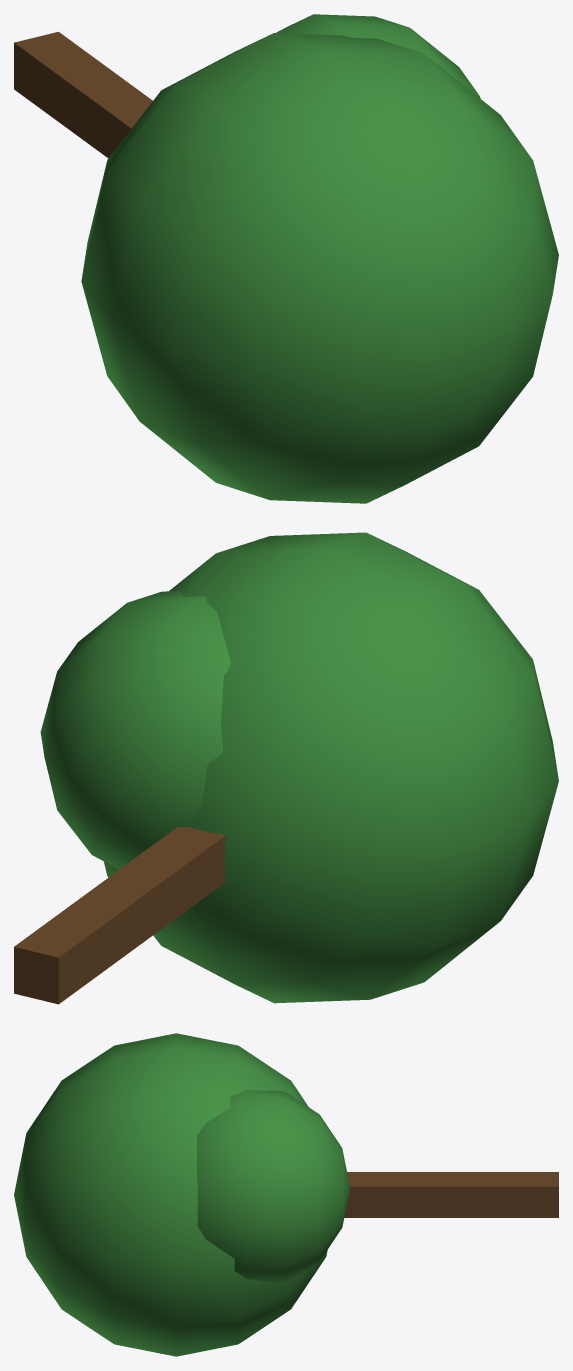
File: arbol_1.obj
3 views of the same model, one above another, from view 1: azimuth 30°, elevation 25°; view 2: azimuth 150°, elevation 25°; view 3: azimuth 270°, elevation 25° (orthographic). The views are drawn at different scales.
Parts seen in each view (by area): view 1: arbol_1_hojas_1, arbol_1_tronco; view 2: arbol_1_hojas_1, arbol_1_tronco; view 3: arbol_1_hojas_1, arbol_1_tronco.
Boxes of the visible parts, bbox=[...] form: arbol_1_hojas_1: bbox=[81, 14, 558, 503]; arbol_1_tronco: bbox=[14, 31, 152, 158]; arbol_1_hojas_1: bbox=[40, 532, 558, 1003]; arbol_1_tronco: bbox=[14, 827, 225, 1004]; arbol_1_hojas_1: bbox=[14, 1033, 350, 1356]; arbol_1_tronco: bbox=[344, 1172, 558, 1217].
Size of the model in its own units: 2.8 by 2.8 by 4.7.
